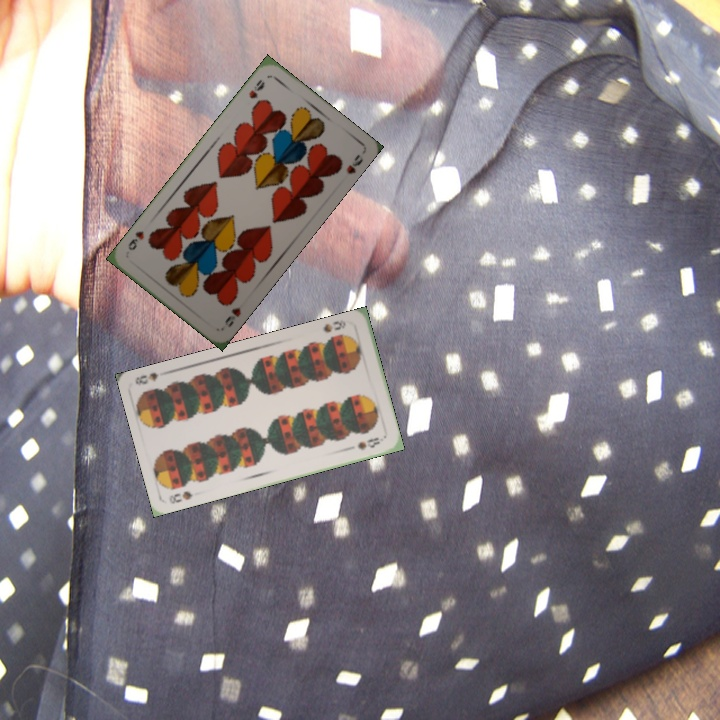H9: (244, 75, 268, 101), (221, 303, 244, 330)
S8: (165, 487, 196, 506), (320, 316, 349, 335)
